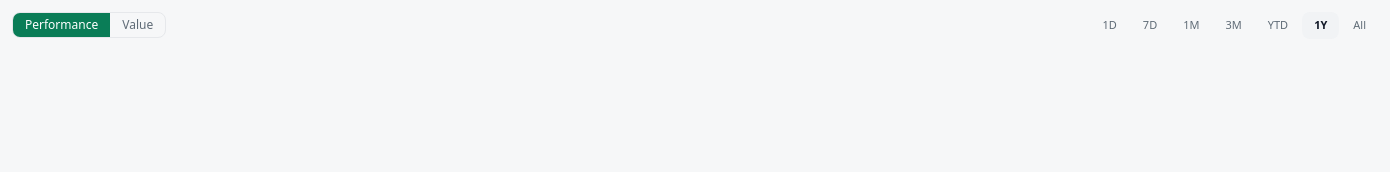
Test: NetWorthHistoryChart › shows a collecting-data note instead of a blank/broken chart when no intraday points exist yet
Click the radio button labelled "1D" at (1110, 25), box left=1090, top=12, right=1129, bottom=39
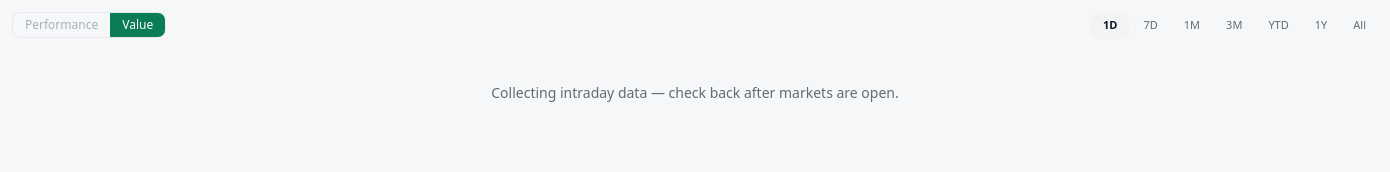
Now the text "Collecting intraday data" is shown, box left=491, top=83, right=899, bottom=102
